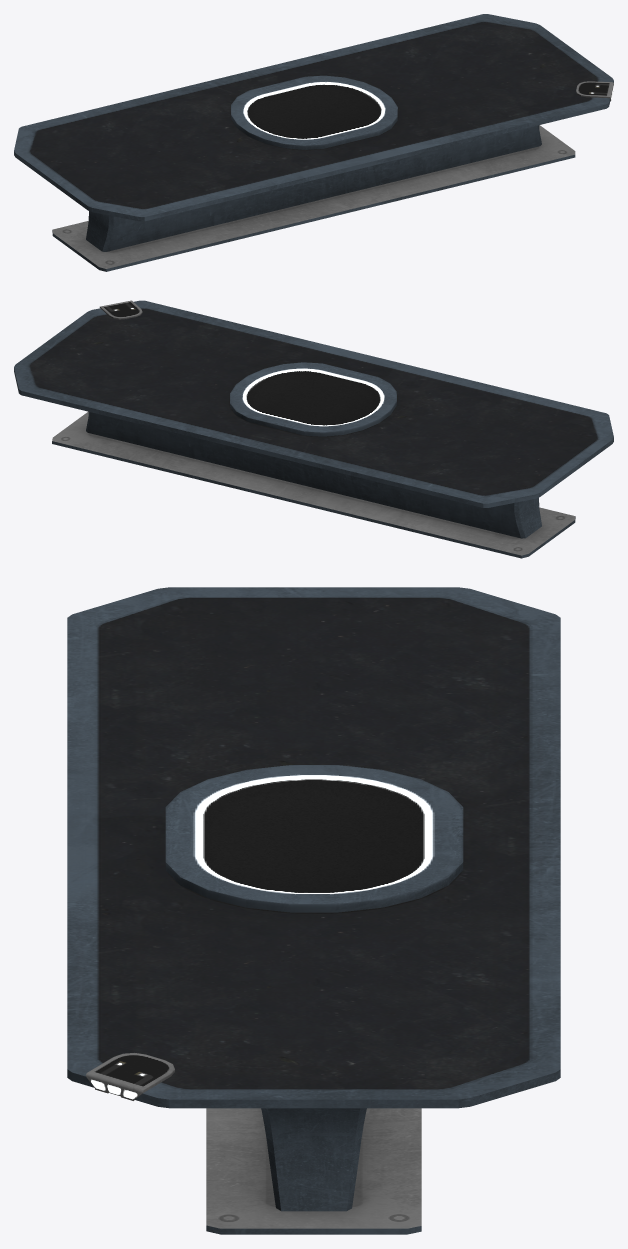
File: sci-fi_table (1).glb
3 views of the same model, one above another, from view 1: azimuth 30°, elevation 25°; view 2: azimuth 150°, elevation 25°; view 3: azimuth 270°, elevation 25° (orthographic). The views are drawn at different scales.
Visible parts, largest first — view 1: BigTable; view 2: BigTable; view 3: BigTable.
Boxes of the visible parts, bbox=[...] form: BigTable: bbox=[14, 14, 613, 271]; BigTable: bbox=[14, 300, 613, 558]; BigTable: bbox=[67, 587, 560, 1234].
Bounding box in the file's own units: 7.91 × 1.21 × 3.22.
Materials: 1 (1 with a texture image).
